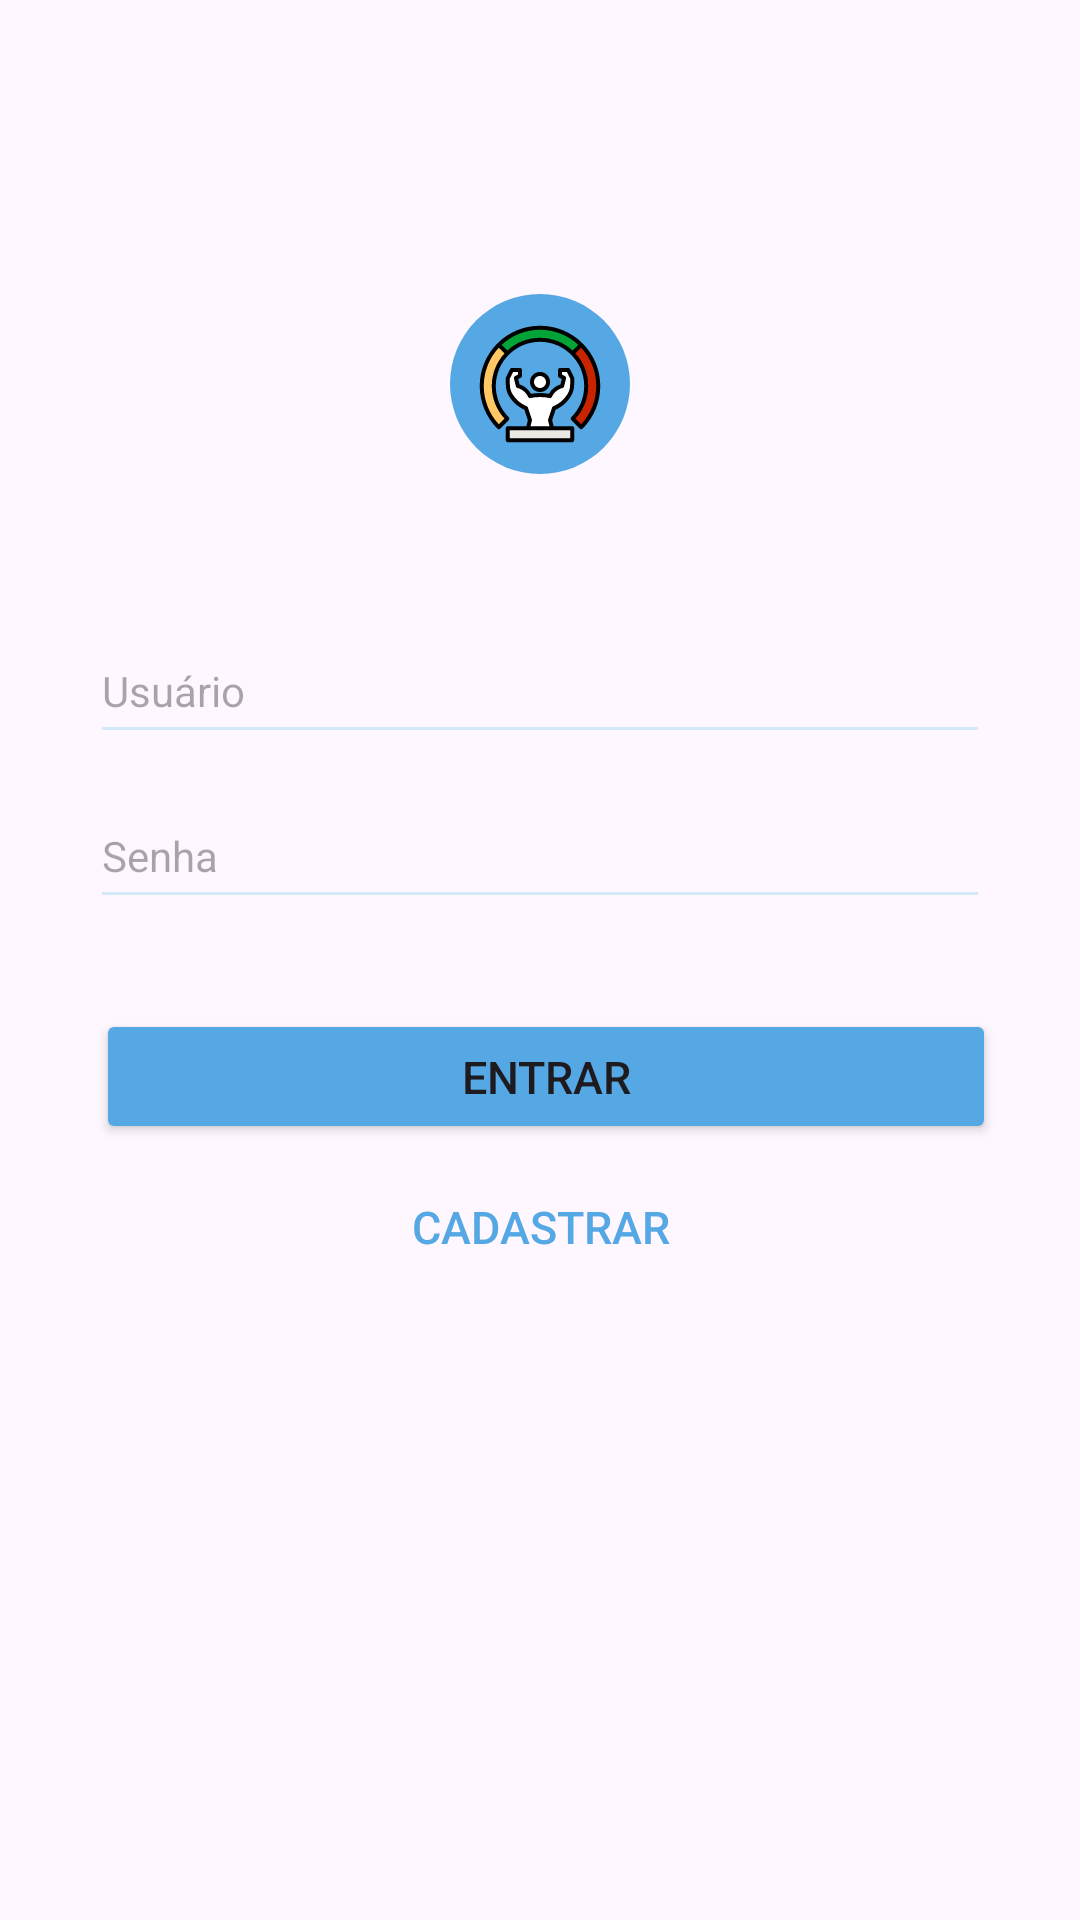

Locate icon controls on the screen. Image size 1080x1920, boxes as (x1, y1, x2, y2).
iconapp: (450, 294, 630, 474)
